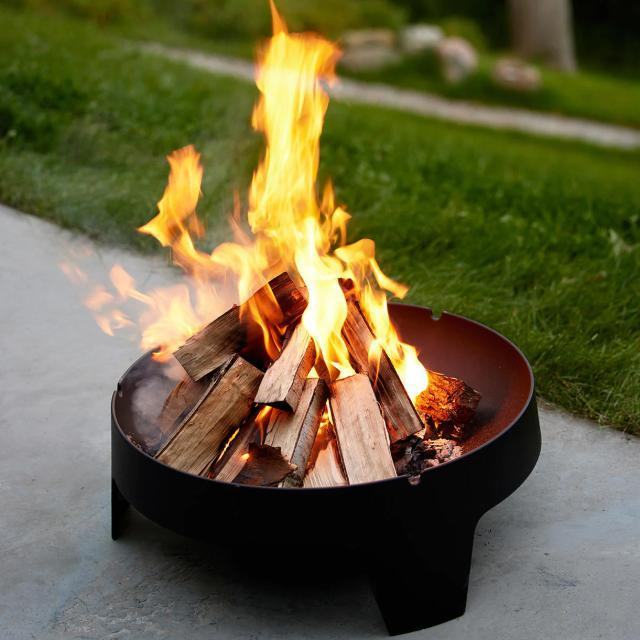Fire: (158, 17, 446, 404)
